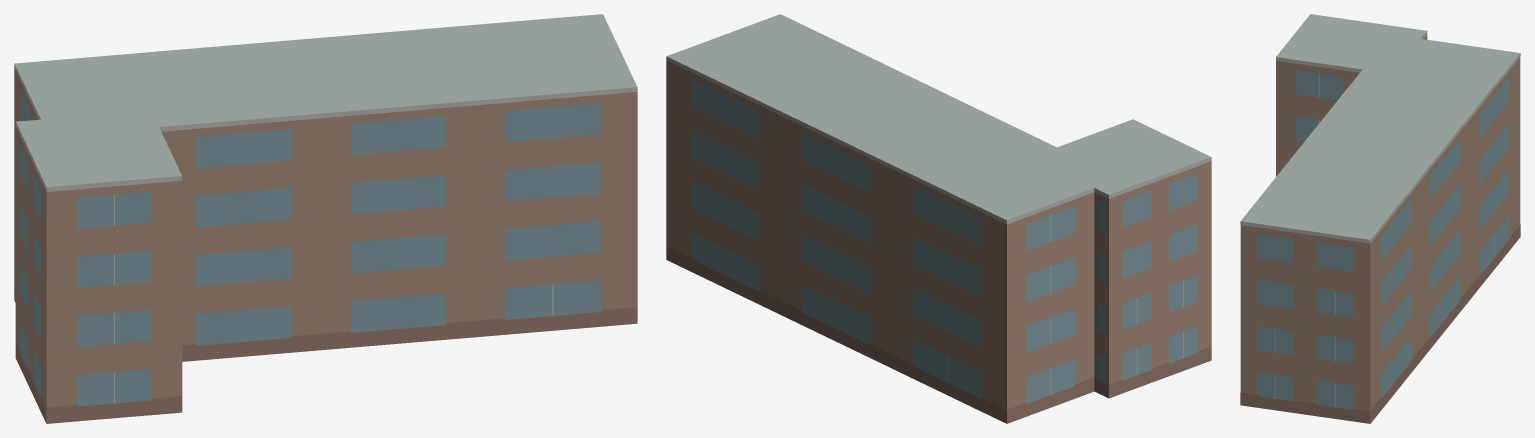
The model's file is residential-eeccabe9-9aa5-49c1-bb57-2266e2aa968c.glb.
3 renders of one model, left to right at view 1: azimuth 30°, elevation 25°; view 2: azimuth 150°, elevation 25°; view 3: azimuth 270°, elevation 25°, orthographic. The views are drawn at different scales.
Parts seen in each view (by area): view 1: residential-eeccabe9-9aa5-49c1-bb57-2266e2aa968c.tmp; view 2: residential-eeccabe9-9aa5-49c1-bb57-2266e2aa968c.tmp; view 3: residential-eeccabe9-9aa5-49c1-bb57-2266e2aa968c.tmp.
Part boxes in pixels (left/top/right/bottom): residential-eeccabe9-9aa5-49c1-bb57-2266e2aa968c.tmp: left=14, top=14, right=637, bottom=423; residential-eeccabe9-9aa5-49c1-bb57-2266e2aa968c.tmp: left=666, top=14, right=1211, bottom=423; residential-eeccabe9-9aa5-49c1-bb57-2266e2aa968c.tmp: left=1240, top=14, right=1520, bottom=423.
Size of the model in its own units: 32.13 by 12.2 by 16.83.
